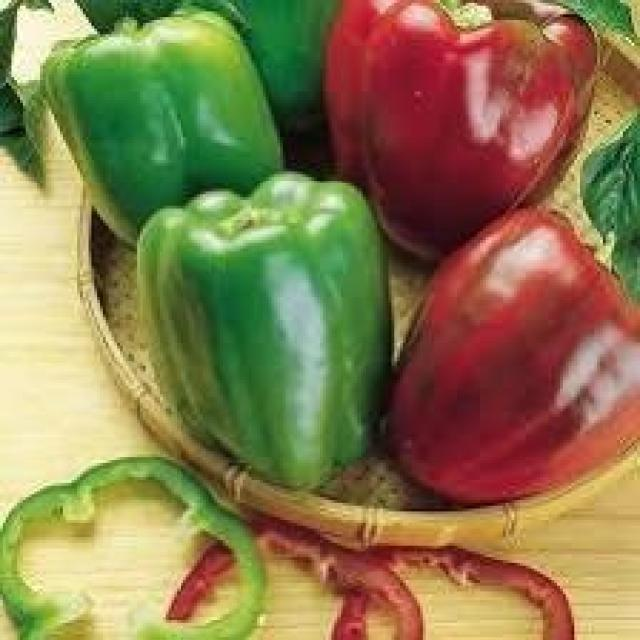Pepper: (134, 171, 394, 494), (380, 206, 640, 511), (323, 0, 600, 266), (40, 9, 286, 246)
